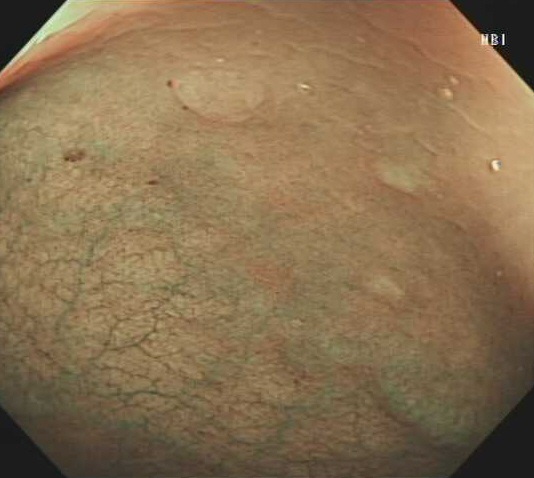others: (170, 71, 268, 123)
